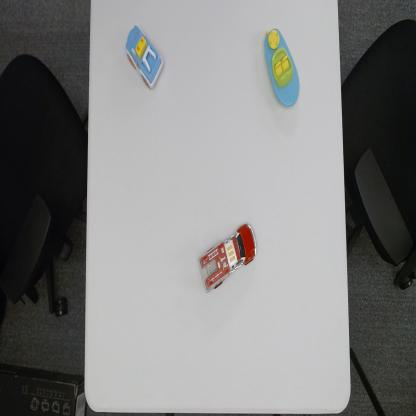Boat: (262, 25, 301, 109)
Car: (124, 23, 166, 96)
Firetruck: (197, 222, 258, 294)
